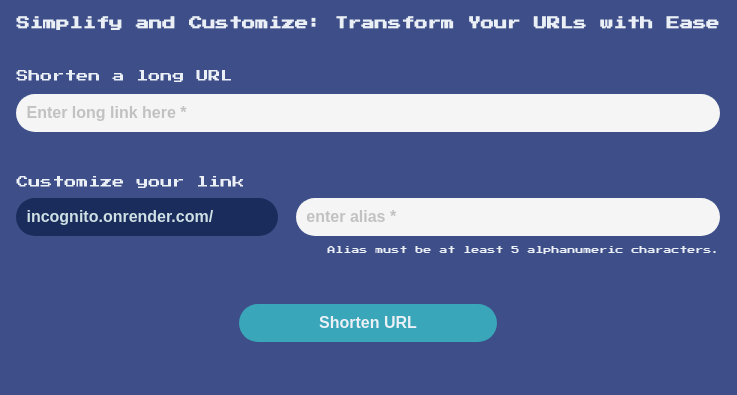
Test: Main Component › should render the main form and show error when form is submitted with invalid input or empty
The width and height of the screenshot is (737, 395).
Click the button "Shorten URL".
click(368, 323)  # box x1=239 y1=304 x2=497 y2=342
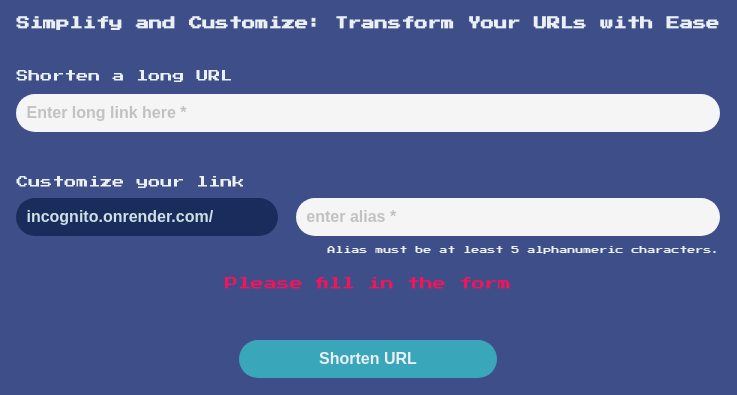
Check: the text with test id "err-message" reads "Please fill in the form", box x1=225 y1=277 x2=511 y2=290
